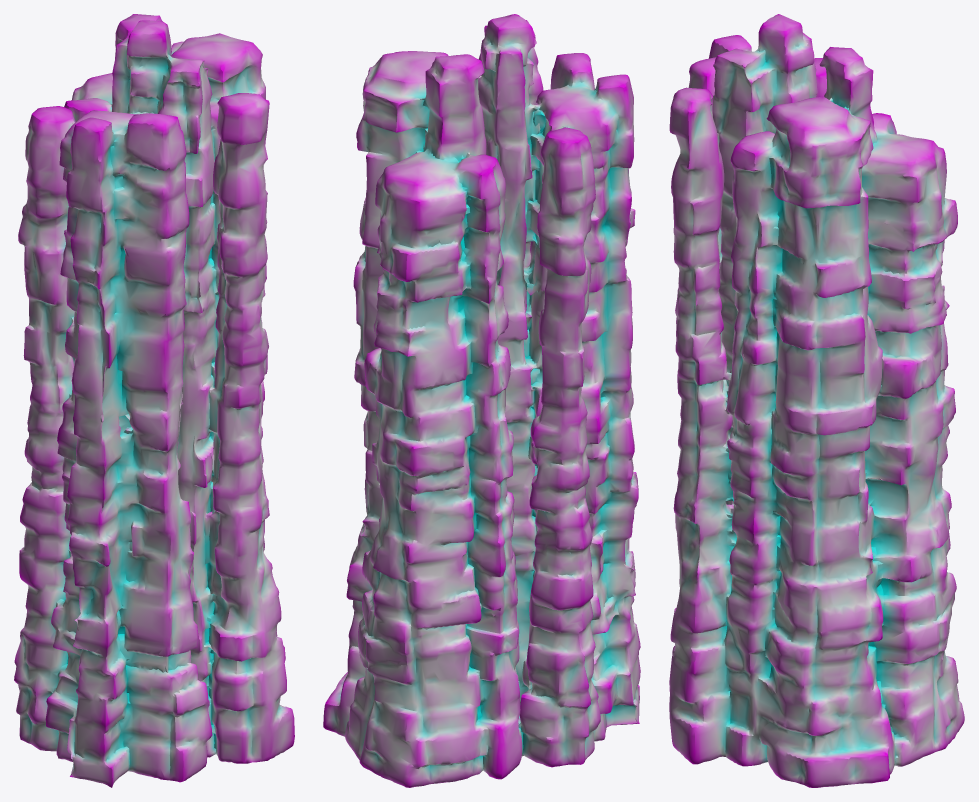
The model's file is Macico_5.fbx.
The picture shows the model from 3 angles, left to right: view 1: azimuth 30°, elevation 25°; view 2: azimuth 150°, elevation 25°; view 3: azimuth 270°, elevation 25°; orthographic projection. The views are drawn at different scales.
Parts seen in each view (by area): view 1: Macico_5; view 2: Macico_5; view 3: Macico_5.
Boxes of the visible parts, x1=… form: Macico_5: x1=14, y1=14, x2=294, y2=787; Macico_5: x1=323, y1=14, x2=640, y2=787; Macico_5: x1=669, y1=14, x2=964, y2=787.
Bounding box in the file's own units: 120 × 320 × 122.
